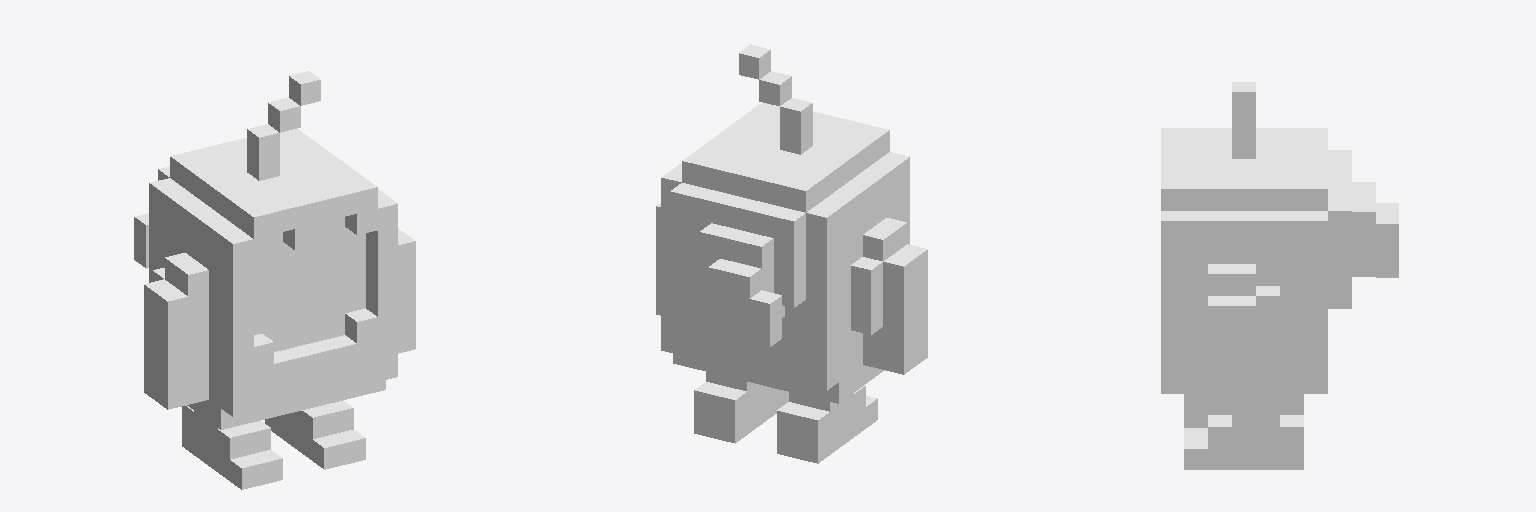
The model's file is testCharacter.obj.
3 renders of one model, left to right at view 1: azimuth 30°, elevation 25°; view 2: azimuth 150°, elevation 25°; view 3: azimuth 270°, elevation 25°, orthographic.
Visible parts, largest first — view 1: object 1; view 2: object 1; view 3: object 1.
Boxes of the visible parts, x1=… form: object 1: x1=134, y1=71, x2=415, y2=489; object 1: x1=656, y1=44, x2=927, y2=463; object 1: x1=1161, y1=82, x2=1398, y2=469.
Bounding box in the file's own units: 1.2 × 1.7 × 1.